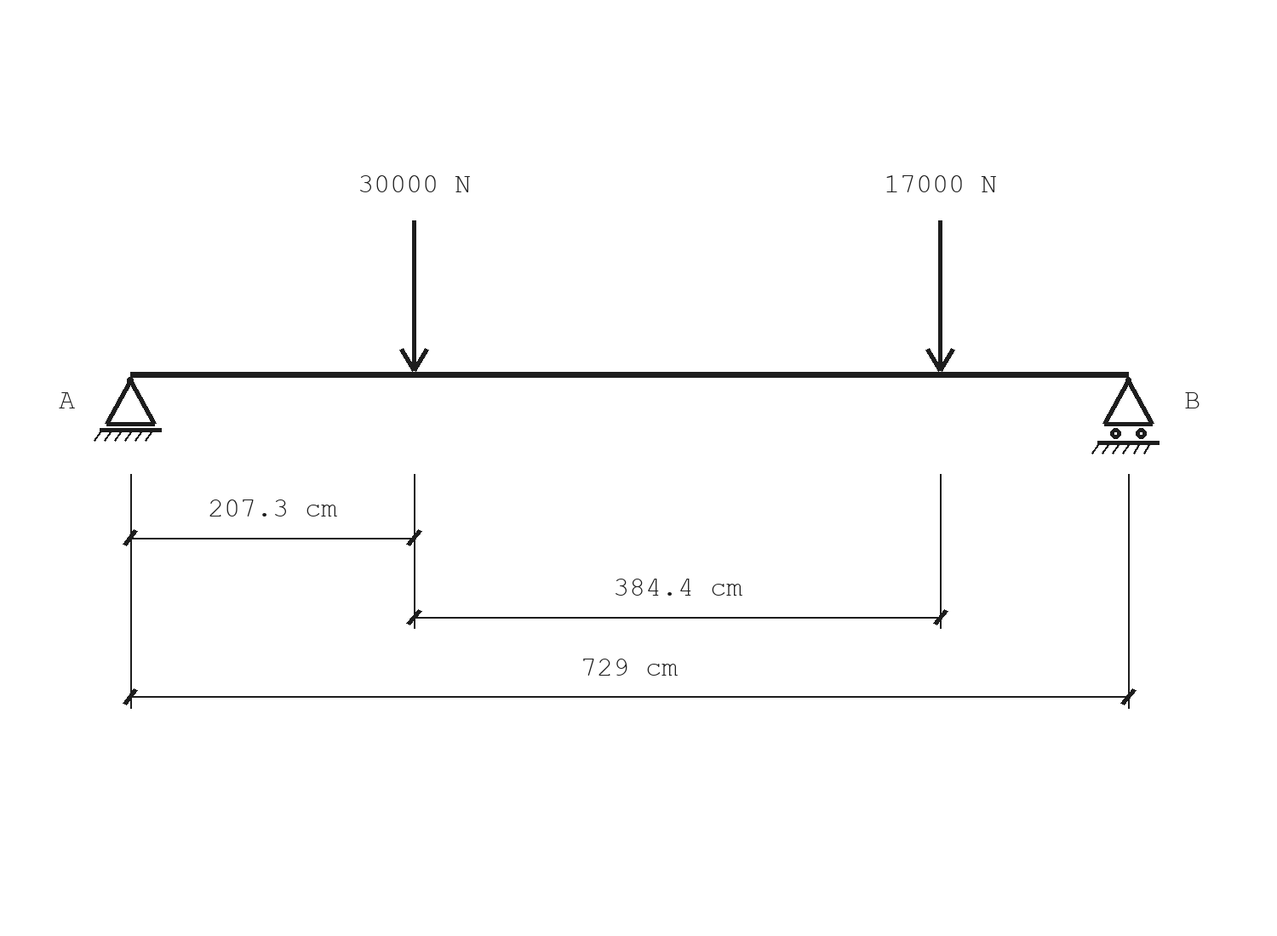pin_support: (94, 377, 162, 442)
point_load: (399, 220, 429, 372), (925, 220, 955, 372)
roller_support: (1091, 377, 1160, 454)
